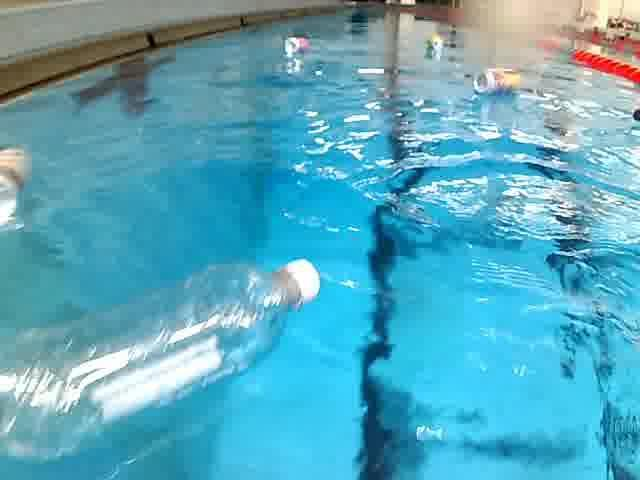Bottle: (0, 248, 339, 480)
Can: (463, 59, 532, 99), (280, 28, 320, 55)
